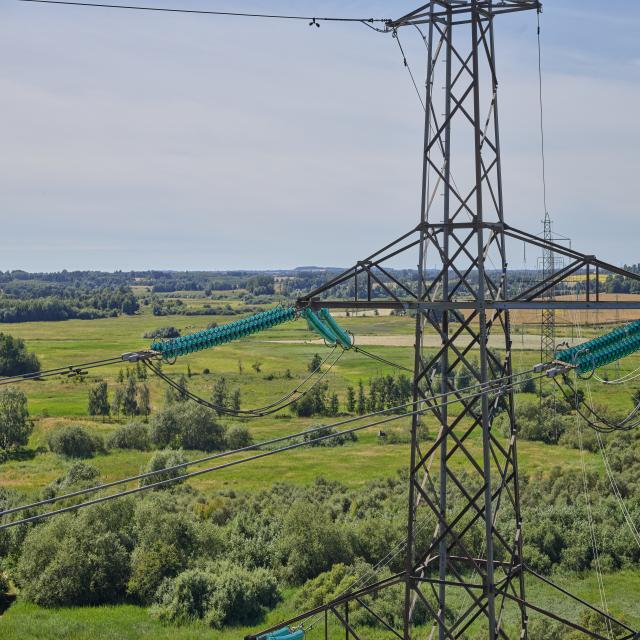杆塔: (400, 0, 538, 640), (530, 212, 574, 433)
正常电缆: (0, 349, 558, 543), (576, 314, 640, 549), (571, 333, 617, 640), (2, 1, 396, 33), (0, 342, 155, 402)
正常绝缘子: (151, 284, 318, 371), (558, 312, 640, 386), (286, 288, 358, 353)
